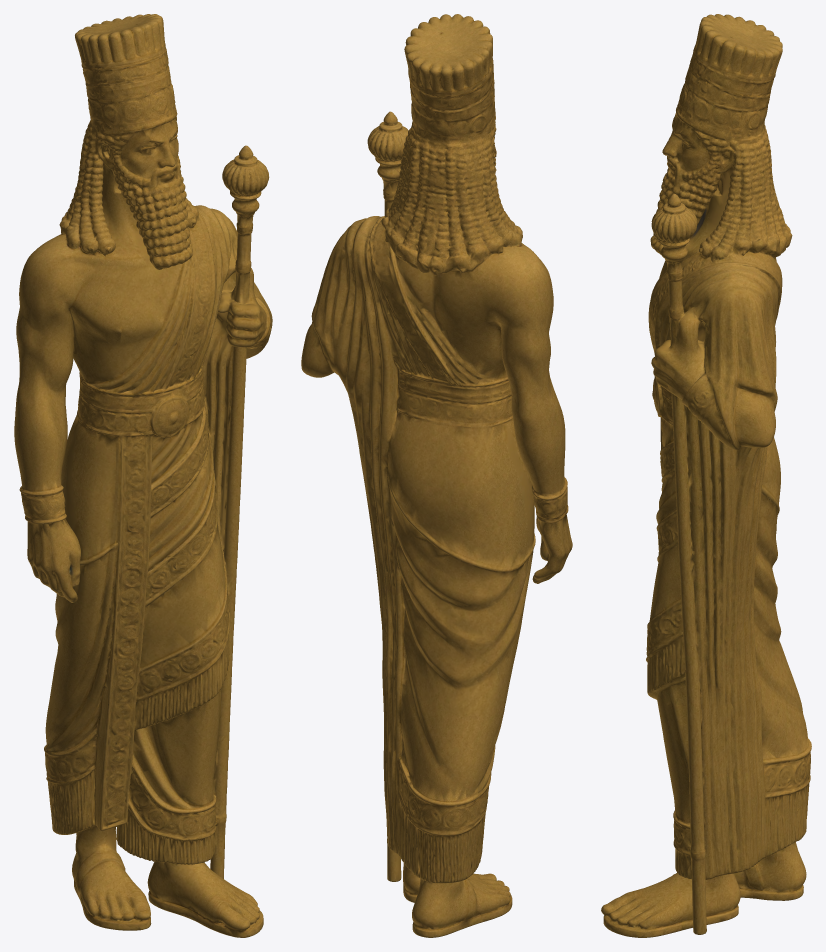
Rendered from dura.glb.
3 views of the same model, side by side, from view 1: azimuth 30°, elevation 25°; view 2: azimuth 150°, elevation 25°; view 3: azimuth 270°, elevation 25° (orthographic).
Bounding box in the file's own units: 0.5669 × 1.9 × 0.4155.
1 material, 1 textured.
